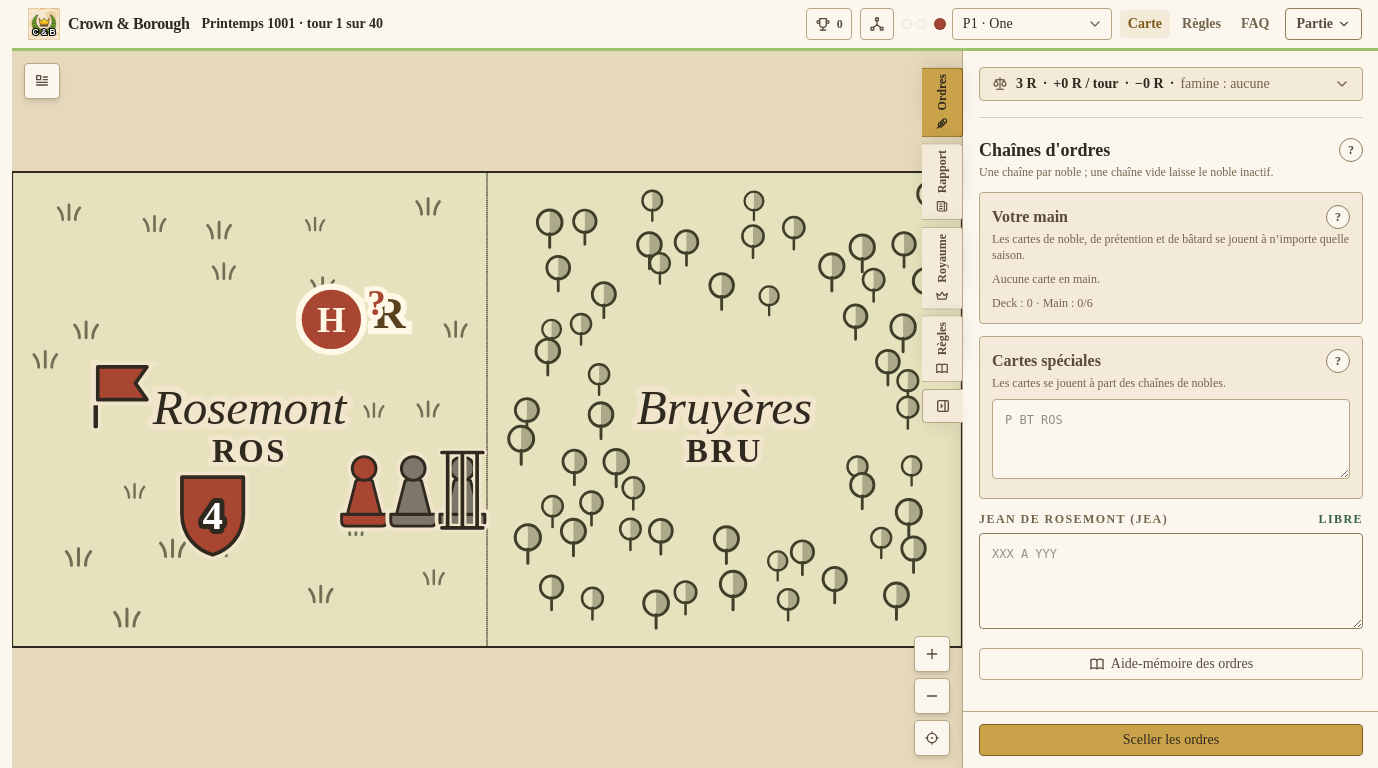
Test: App command/report tabs › shows order validation errors next to the seal button
Expected: the text box named "Chaîne de JEA" is shown, [979,533,1363,629]
Click the button "Sceller les ordres".
click(1171, 740)  # box [979,724,1363,756]
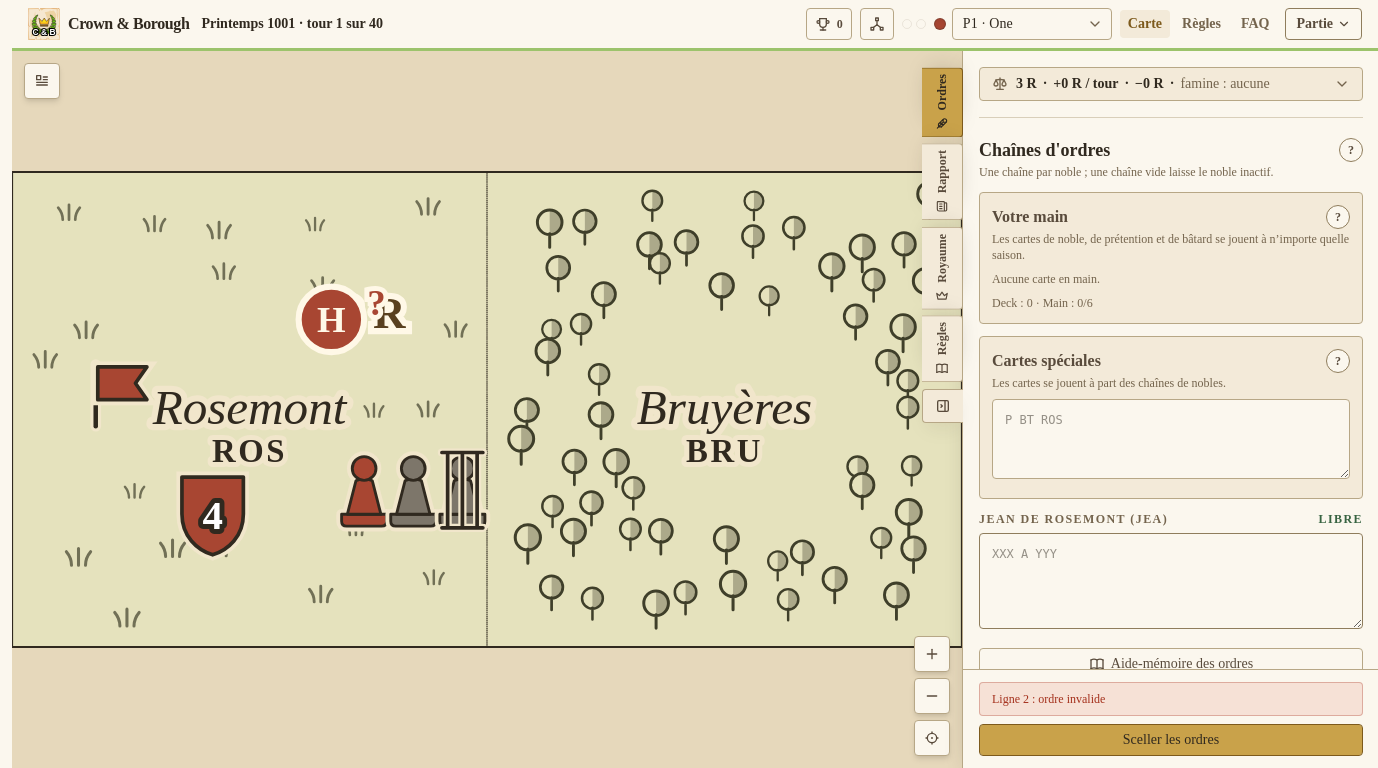
Expected: the element showing "Ligne 2 : ordre invalide Sceller les ordres" is shown, [963,669,1377,767]
Result: the message reads "Ligne 2 : ordre invalide" at [992,692,1105,706]
